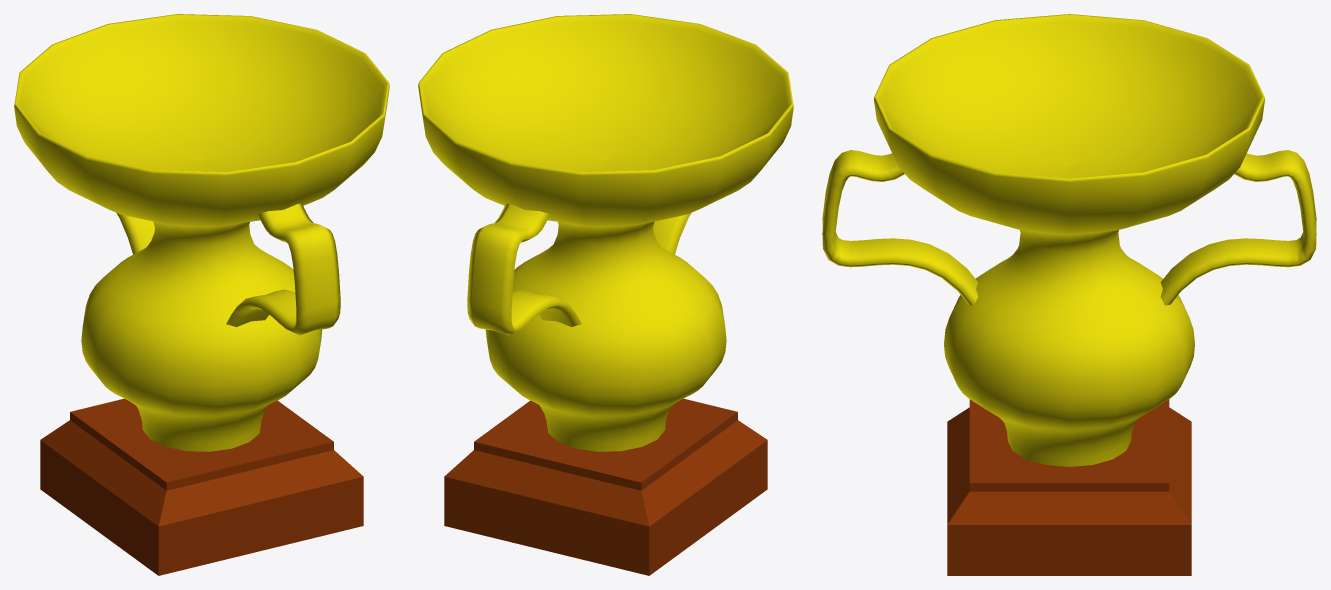
File: trophy.fbx
3 views of the same model, side by side, from view 1: azimuth 30°, elevation 25°; view 2: azimuth 150°, elevation 25°; view 3: azimuth 270°, elevation 25° (orthographic). The views are drawn at different scales.
Visible parts, largest first — view 1: vase, base, handle path; view 2: vase, base, handle path; view 3: vase, base, handle path.
Boxes of the visible parts, x1,y1,x2,y2 form: vase: [14, 14, 389, 451]; base: [40, 398, 363, 575]; handle path: [116, 203, 340, 335]; vase: [418, 14, 793, 451]; base: [444, 398, 767, 575]; handle path: [467, 203, 691, 335]; vase: [874, 14, 1264, 466]; base: [947, 399, 1191, 575]; handle path: [822, 150, 1316, 305].
Bounding box in the file's own units: 320 × 386 × 404.
